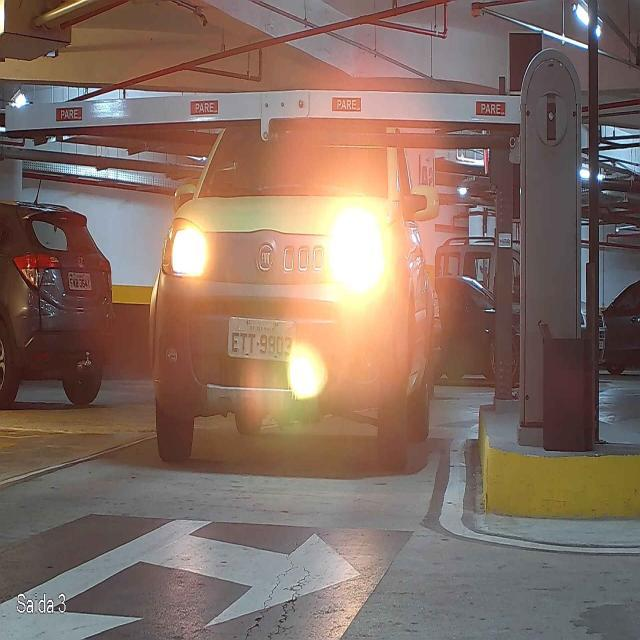old_plate: (226, 314, 300, 364)
